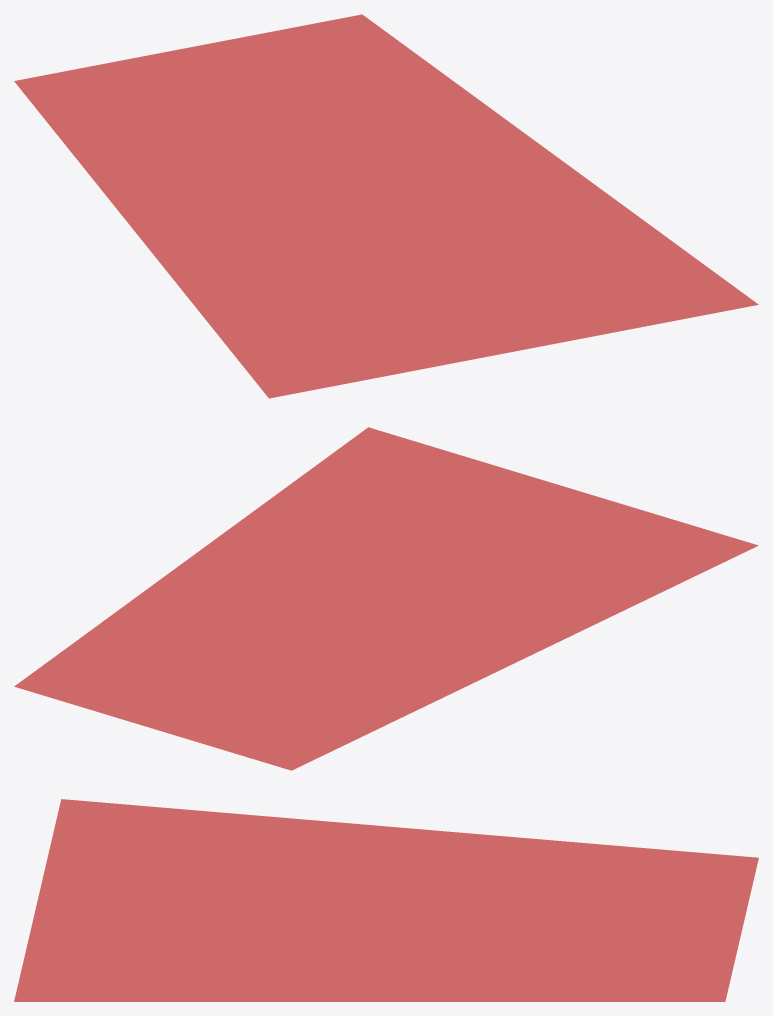
File: dpe_pressure_gauge_red_segment.dae
The picture shows the model from 3 angles, top to bottom: view 1: azimuth 30°, elevation 25°; view 2: azimuth 150°, elevation 25°; view 3: azimuth 270°, elevation 25°; orthographic projection. The views are drawn at different scales.
Parts seen in each view (by area): view 1: pressure_gauge_red_segment; view 2: pressure_gauge_red_segment; view 3: pressure_gauge_red_segment.
Part boxes in pixels (bbox=[...]): pressure_gauge_red_segment: bbox=[14, 14, 758, 398]; pressure_gauge_red_segment: bbox=[14, 427, 758, 770]; pressure_gauge_red_segment: bbox=[14, 799, 758, 1001].
Bounding box in the file's own units: 0.0181 × 0.0281 × 0.
